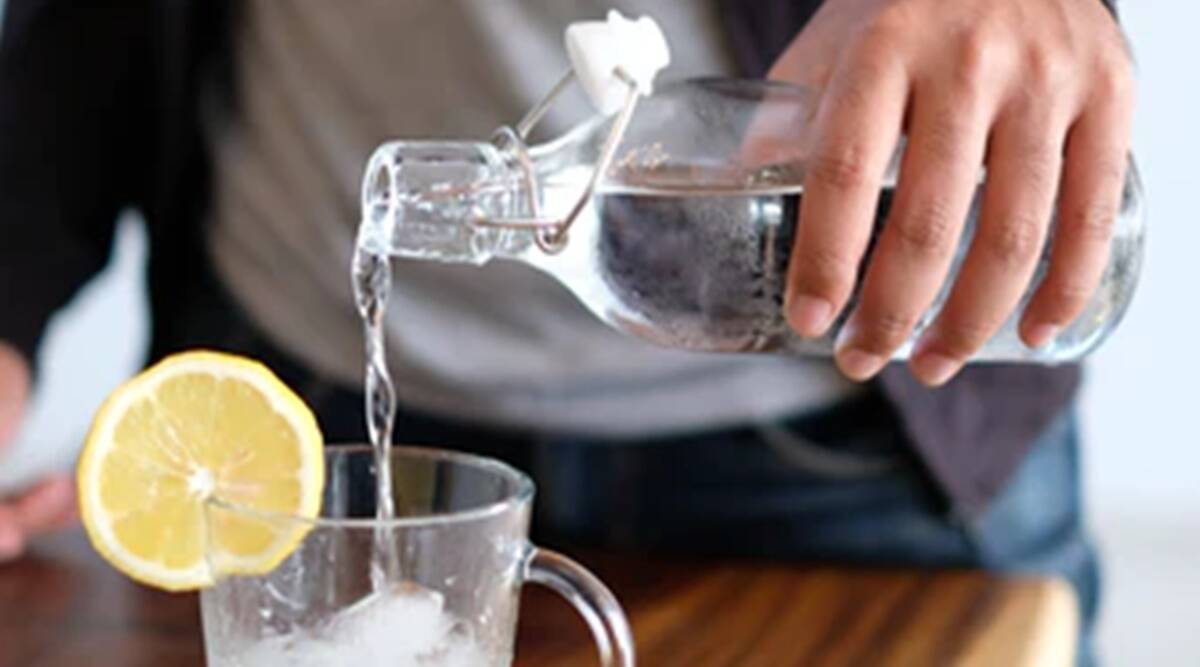glass_bottle: (351, 67, 1153, 381)
